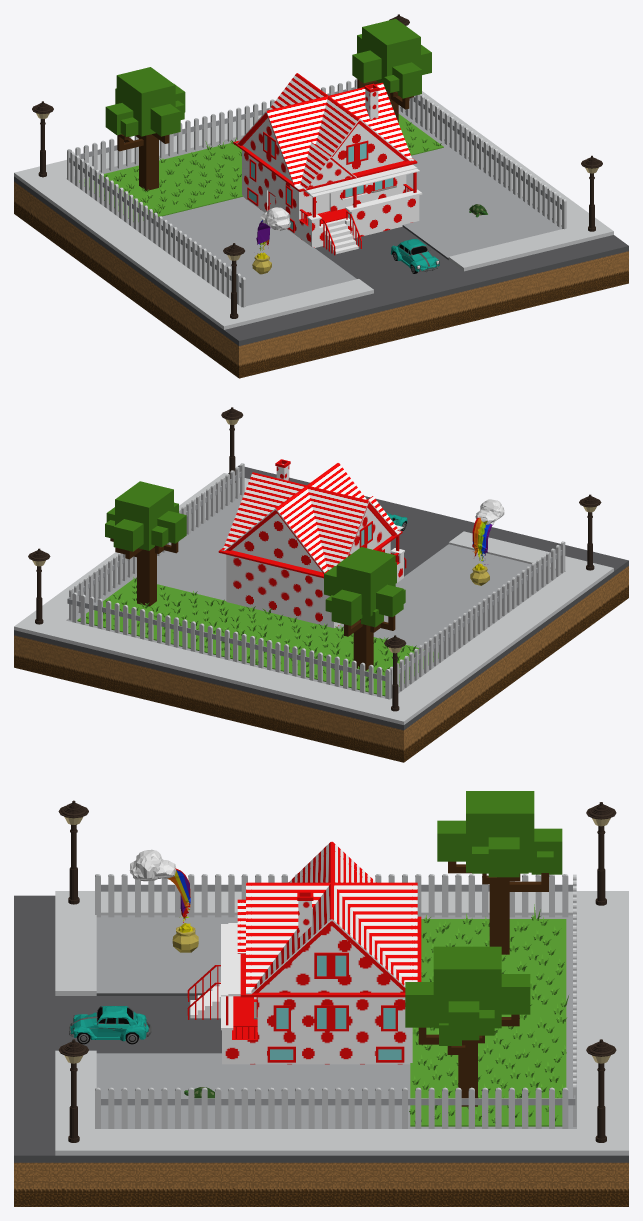
3 renders of one model, top to bottom at view 1: azimuth 30°, elevation 25°; view 2: azimuth 150°, elevation 25°; view 3: azimuth 270°, elevation 25°, orthographic. The views are drawn at different scales.
Parts seen in each view (by area): view 1: Cube.004, Cube.196, OBJRANDOM_RAINBOW, VEHICLES_VOLKSWAGEN; view 2: Cube.004, Cube.196, OBJRANDOM_RAINBOW; view 3: Cube.004, Cube.196, VEHICLES_VOLKSWAGEN, OBJRANDOM_RAINBOW.
Boxes of the visible parts, x1,y1,x2,y2 form: Cube.004: [14, 14, 628, 378]; Cube.196: [233, 73, 422, 255]; OBJRANDOM_RAINBOW: [252, 207, 290, 274]; VEHICLES_VOLKSWAGEN: [390, 239, 439, 273]; Cube.004: [14, 407, 628, 762]; Cube.196: [218, 459, 406, 627]; OBJRANDOM_RAINBOW: [470, 499, 504, 585]; Cube.004: [14, 791, 628, 1206]; Cube.196: [187, 841, 421, 1064]; VEHICLES_VOLKSWAGEN: [69, 1006, 151, 1044]; OBJRANDOM_RAINBOW: [129, 849, 198, 952].
Size of the model in its own units: 4000 by 1579 by 4000.
Materials: 40 (4 with a texture image).
